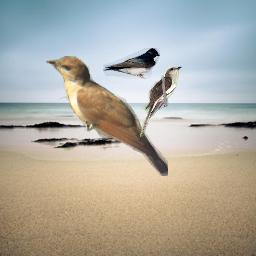Cuckoo: (46, 56, 168, 176), (140, 66, 182, 137)
Swallow: (103, 48, 160, 79)
